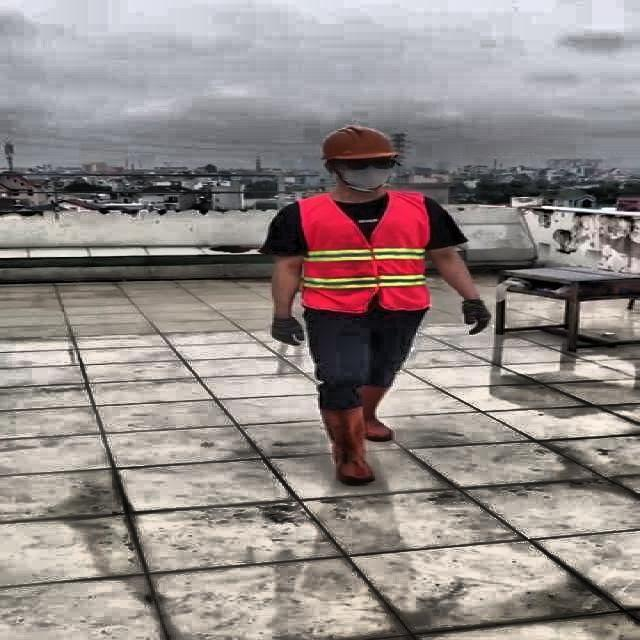safety_helmet: (316, 124, 400, 164)
safety_jacket: (297, 193, 432, 313)
